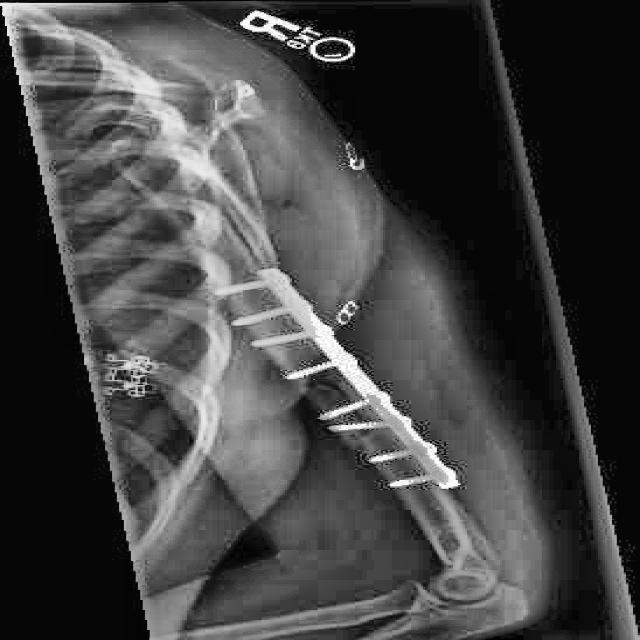humerus: (292, 374, 413, 466)
